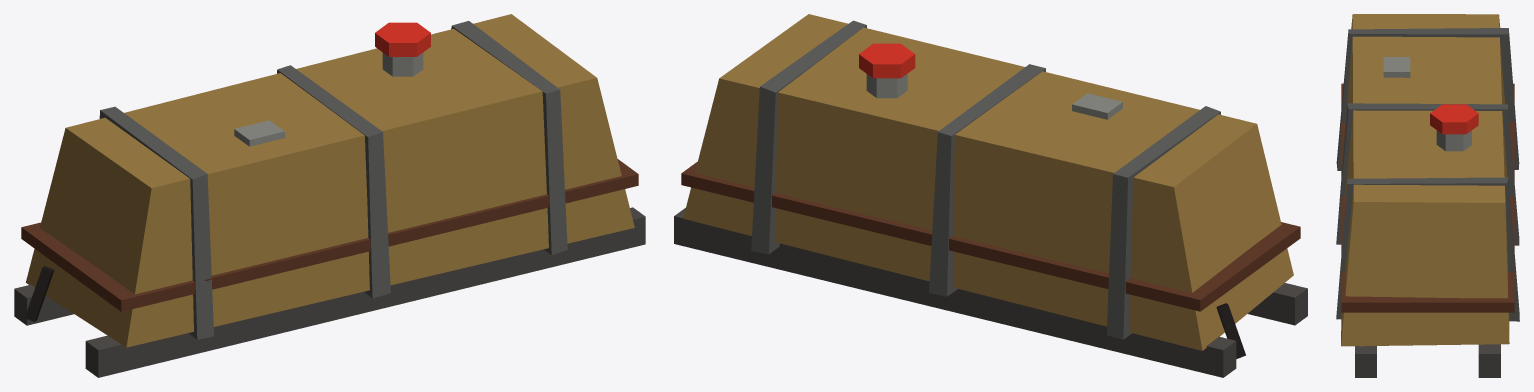
The model's file is fuel_tank.glb.
3 renders of one model, left to right at view 1: azimuth 30°, elevation 25°; view 2: azimuth 150°, elevation 25°; view 3: azimuth 270°, elevation 25°, orthographic. The views are drawn at different scales.
Parts seen in each view (by area): view 1: fuel_tank; view 2: fuel_tank; view 3: fuel_tank.
Boxes of the visible parts, x1,y1,x2,y2 form: fuel_tank: (14,14,645,377); fuel_tank: (674,14,1307,377); fuel_tank: (1336,14,1519,377).
Bounding box in the file's own units: 1.25 × 0.465 × 0.4157.
